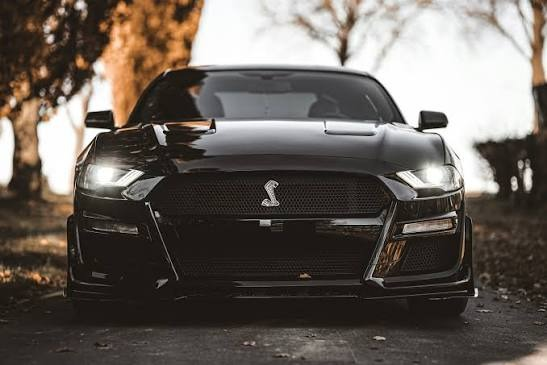car: (61, 67, 476, 322), (65, 75, 461, 314)
